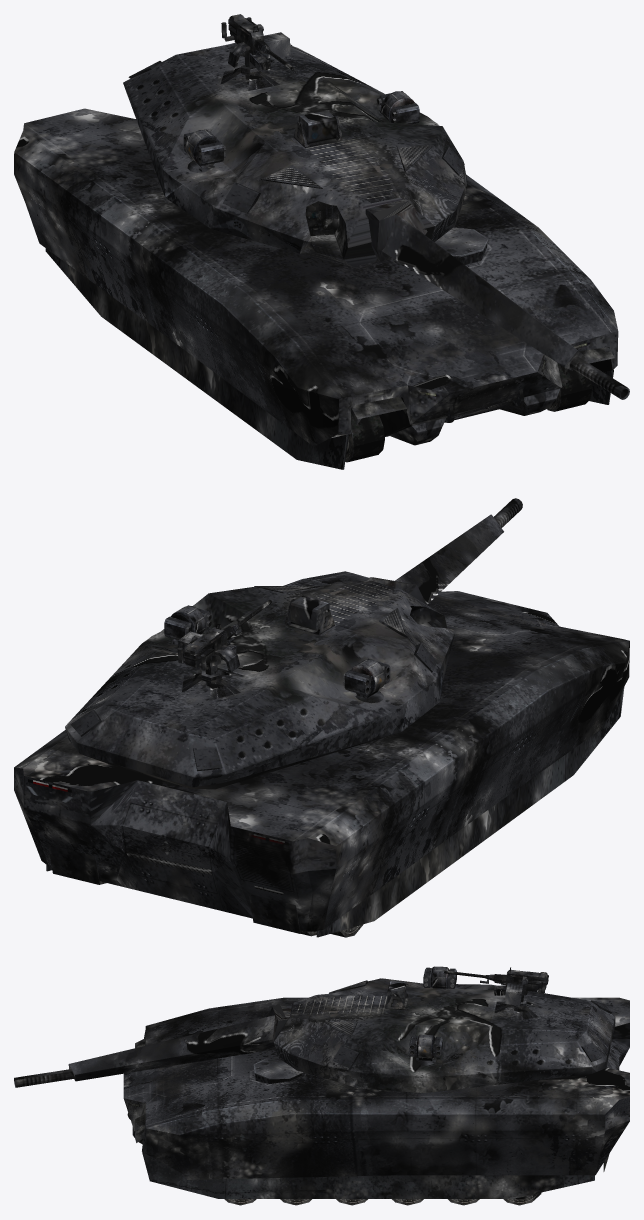
Rendered from PL_Bomb.FBX.
3 views of the same model, one above another, from view 1: azimuth 30°, elevation 25°; view 2: azimuth 150°, elevation 25°; view 3: azimuth 270°, elevation 25° (orthographic). The views are drawn at different scales.
Visible parts, largest first — view 1: headusOBJexport, Object02, Object01, Object04, Object06; view 2: headusOBJexport, Object02, Object01; view 3: headusOBJexport, Object02, Object01.
Part boxes in pixels (x1,y1,x2,y2): headusOBJexport: (14,108,618,469); Object02: (123,14,466,266); Object01: (365,199,629,399); Object04: (345,413,384,462); Object06: (547,363,592,411); headusOBJexport: (14,571,629,937); Object02: (65,580,454,789); Object01: (368,498,522,604); headusOBJexport: (123,997,629,1198); Object02: (273,966,615,1092); Object01: (14,1003,291,1087).
Bounding box in the file's own units: 499 × 1123 × 403.
Materials: 1 (1 with a texture image).
